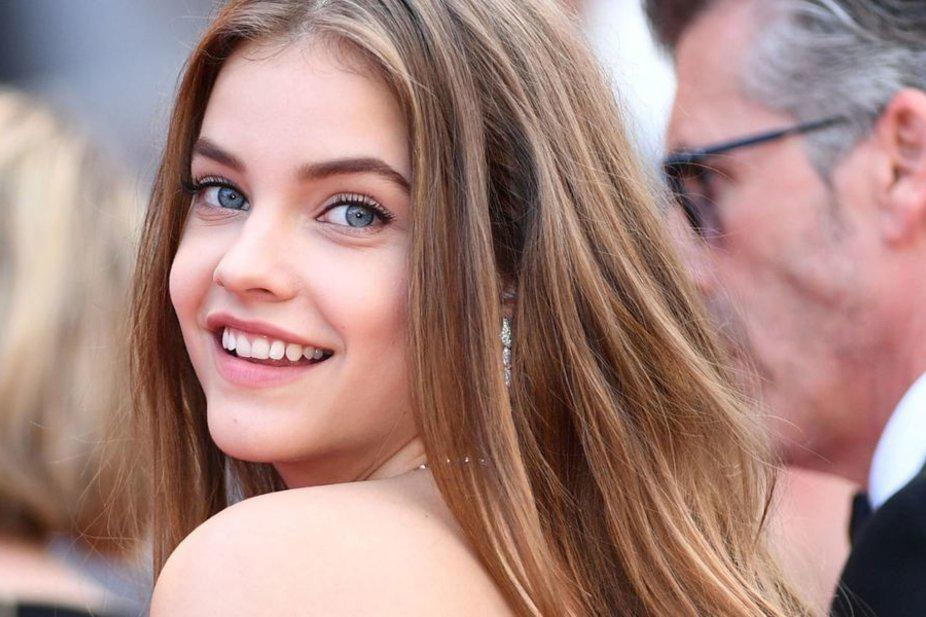Sober: (178, 70, 405, 437)
